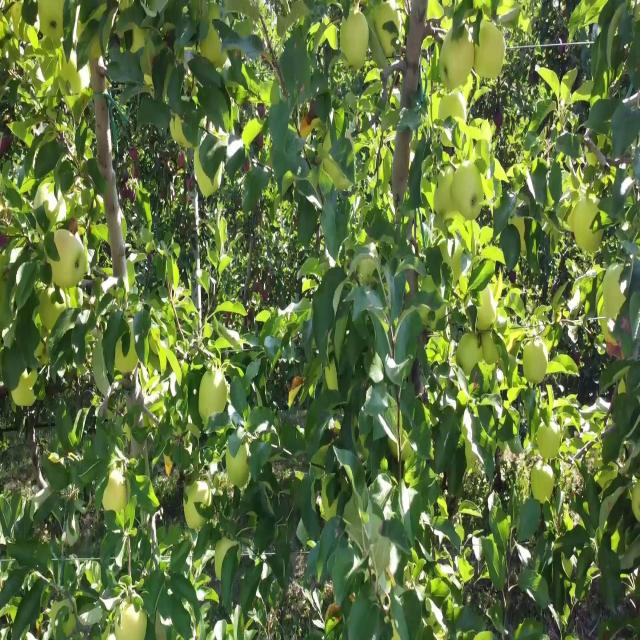apple: (52, 234, 89, 292), (340, 14, 370, 71), (476, 21, 506, 78), (200, 369, 230, 420), (376, 7, 404, 60), (445, 35, 475, 82), (104, 469, 129, 512), (524, 341, 549, 384), (608, 319, 633, 361), (120, 604, 148, 639), (228, 447, 251, 489), (204, 35, 228, 71), (116, 341, 139, 375), (460, 334, 478, 377), (12, 376, 35, 409), (448, 92, 467, 128), (200, 170, 221, 199), (476, 305, 497, 334), (480, 334, 500, 364), (140, 362, 160, 391), (324, 14, 340, 50), (188, 504, 207, 533), (192, 483, 214, 508), (288, 376, 304, 409), (172, 113, 187, 148), (460, 71, 476, 101), (132, 28, 148, 57), (364, 63, 381, 85), (300, 113, 313, 140), (484, 170, 495, 201), (328, 604, 343, 626), (328, 362, 339, 391), (464, 7, 479, 28), (440, 14, 455, 34), (144, 376, 161, 393), (68, 291, 81, 313), (176, 362, 188, 384), (160, 348, 169, 375), (400, 7, 408, 37), (480, 7, 494, 23), (172, 263, 180, 290), (36, 618, 44, 638), (496, 7, 512, 16), (180, 156, 188, 171), (132, 149, 140, 164), (48, 455, 60, 464), (168, 462, 174, 476), (4, 135, 10, 149)
